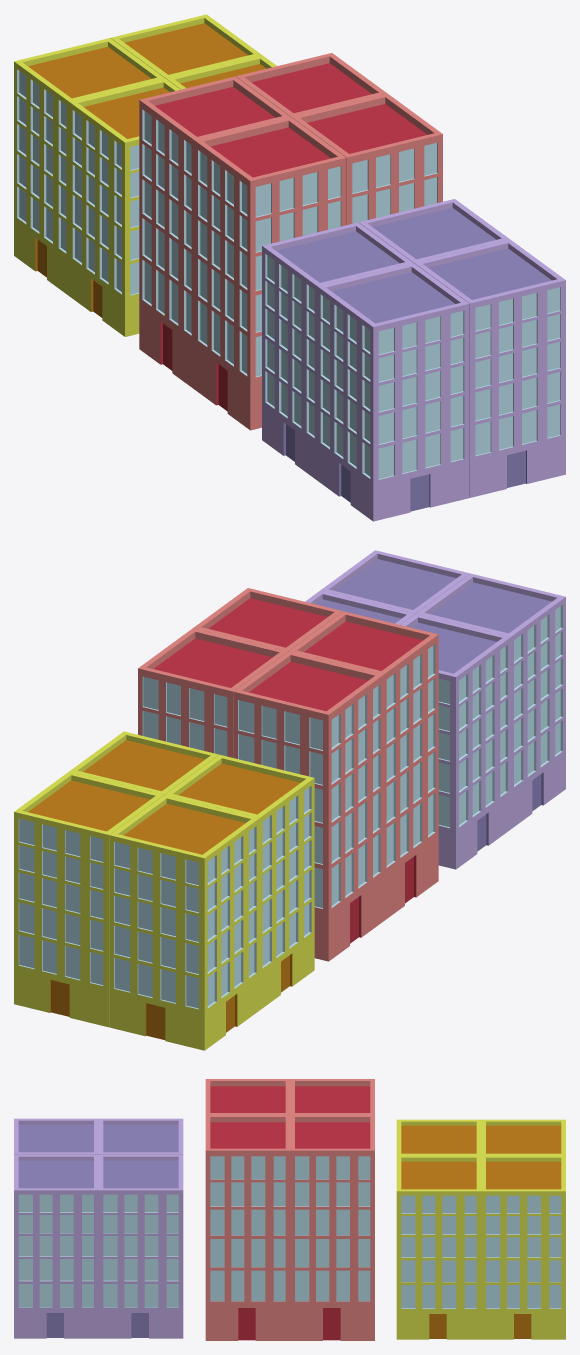
File: evler.fbx
The picture shows the model from 3 angles, top to bottom: view 1: azimuth 30°, elevation 25°; view 2: azimuth 150°, elevation 25°; view 3: azimuth 270°, elevation 25°; orthographic projection. The views are drawn at different scales.
Visible parts, largest first — view 1: ev.005, ev.011, ev.007; view 2: ev.007, ev.011, ev.005; view 3: ev.011, ev.007, ev.005.
Part boxes in pixels (x1=…): ev.005: x1=262, y1=199, x2=565, y2=521; ev.011: x1=139, y1=53, x2=442, y2=430; ev.007: x1=14, y1=14, x2=276, y2=336; ev.007: x1=14, y1=731, x2=314, y2=1050; ev.011: x1=138, y1=588, x2=438, y2=961; ev.005: x1=305, y1=550, x2=565, y2=869; ev.011: x1=205, y1=1079, x2=374, y2=1340; ev.007: x1=396, y1=1119, x2=565, y2=1339; ev.005: x1=14, y1=1118, x2=183, y2=1338.
Size of the model in its own units: 1075 by 1309 by 3447.
